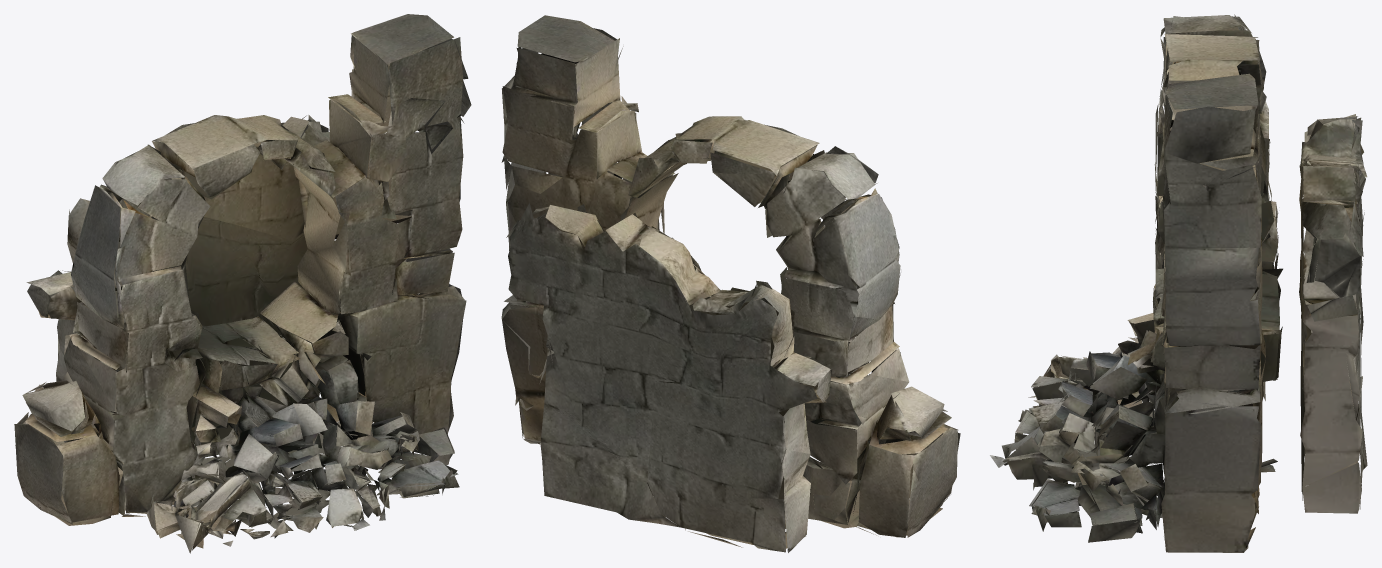
Rendered from wall_breach.glb.
3 views of the same model, side by side, from view 1: azimuth 30°, elevation 25°; view 2: azimuth 150°, elevation 25°; view 3: azimuth 270°, elevation 25° (orthographic). The views are drawn at different scales.
Visible parts, largest first — view 1: world; view 2: world; view 3: world.
Part boxes in pixels (<box>): world: <box>14,14,471,553</box>; world: <box>501,15,960,552</box>; world: <box>990,14,1367,552</box>.
Size of the model in its own units: 1.01 by 0.945 by 0.6997.
1 material, 1 textured.
